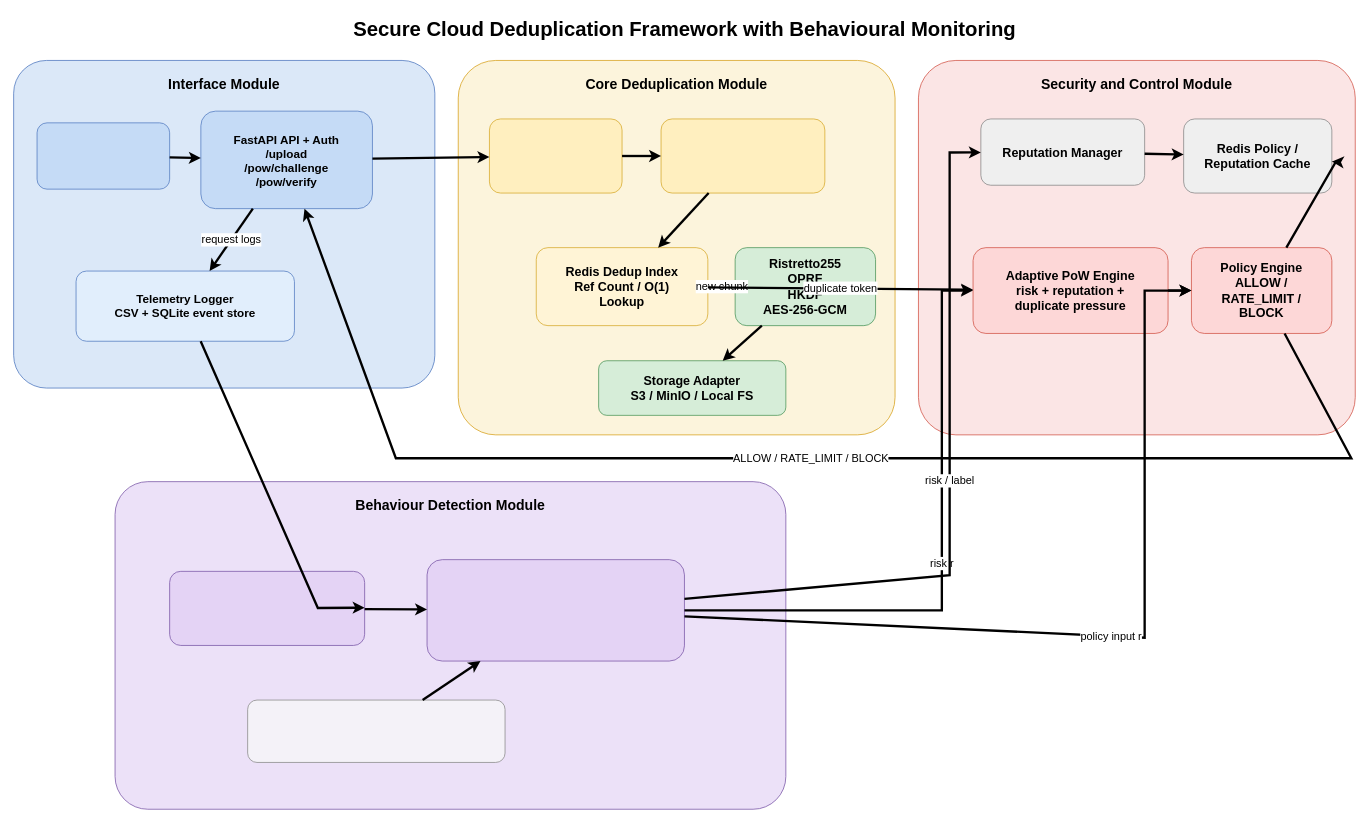
The diagram is 1372 pixels wide and 823 high, and some of its shapes have lost their labels. The shapes that lost their labels are listed below. From the top down, each one's box as (x1, y1, x2, y2) in pixels, then its label:
(36, 122, 170, 189): Client Applications / SDK
(489, 118, 622, 193): FastCDC Chunking
(660, 118, 825, 193): HMAC-SHA256 Token Generation
(169, 571, 365, 645): Feature Extraction 12 behavioural signals
(426, 559, 684, 661): Detector Supervised RF Cold-start OCSVM risk score r, label ŷ
(247, 699, 505, 762): Model Artifacts supervised + cold-start artefacts
